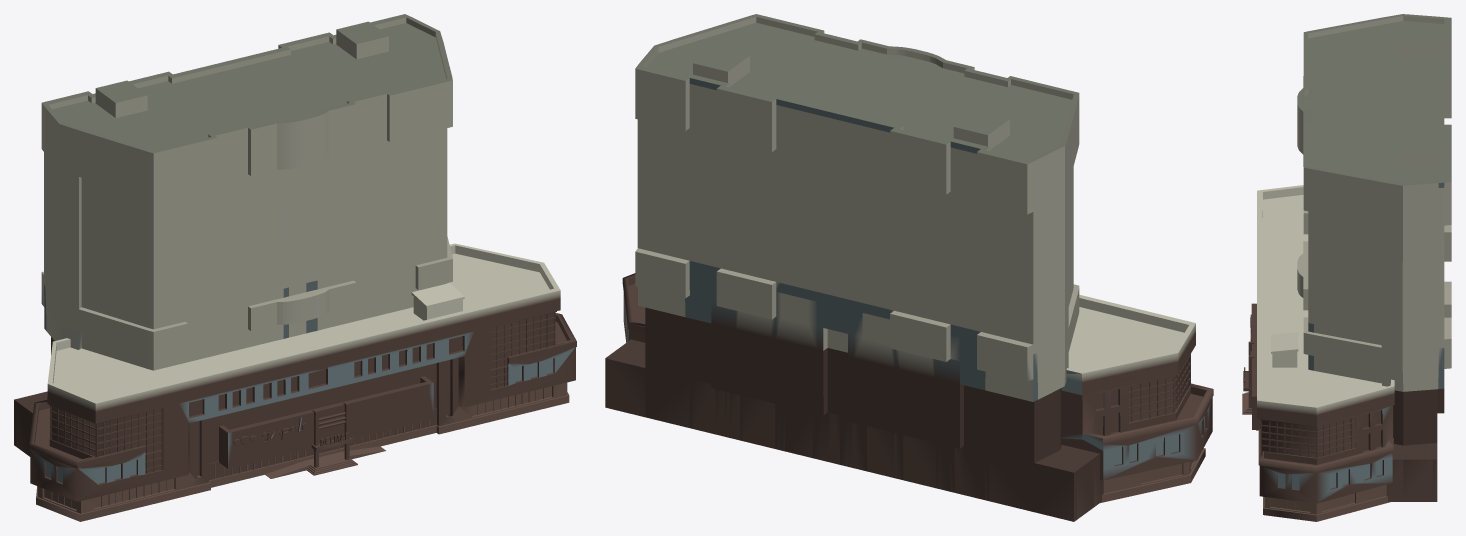
The picture shows the model from 3 angles, left to right: view 1: azimuth 30°, elevation 25°; view 2: azimuth 150°, elevation 25°; view 3: azimuth 270°, elevation 25°; orthographic projection. The views are drawn at different scales.
Visible parts, largest first — view 1: Nadpisi_for_Retop:pPlane1:PIV; view 2: Nadpisi_for_Retop:pPlane1:PIV; view 3: Nadpisi_for_Retop:pPlane1:PIV.
Boxes of the visible parts, x1,y1,x2,y2 form: Nadpisi_for_Retop:pPlane1:PIV: (14,14,576,521); Nadpisi_for_Retop:pPlane1:PIV: (605,14,1213,521); Nadpisi_for_Retop:pPlane1:PIV: (1242,14,1451,521).
Size of the model in its own units: 22.89 by 13.93 by 8.41.
